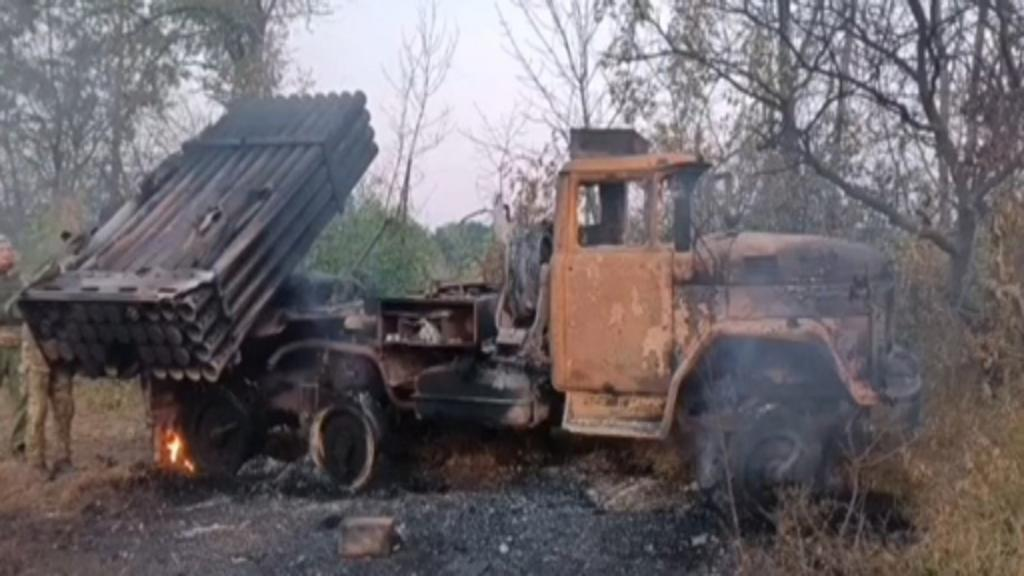MLRS: (12, 75, 920, 536)
